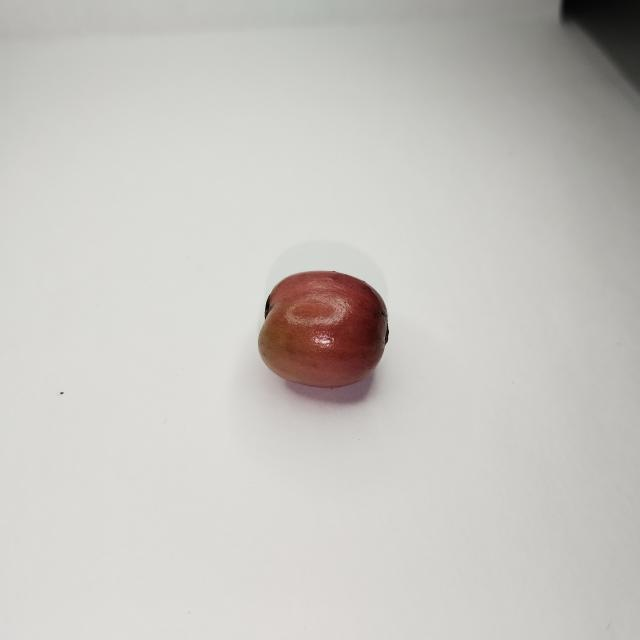Sano: (258, 270, 387, 390)
